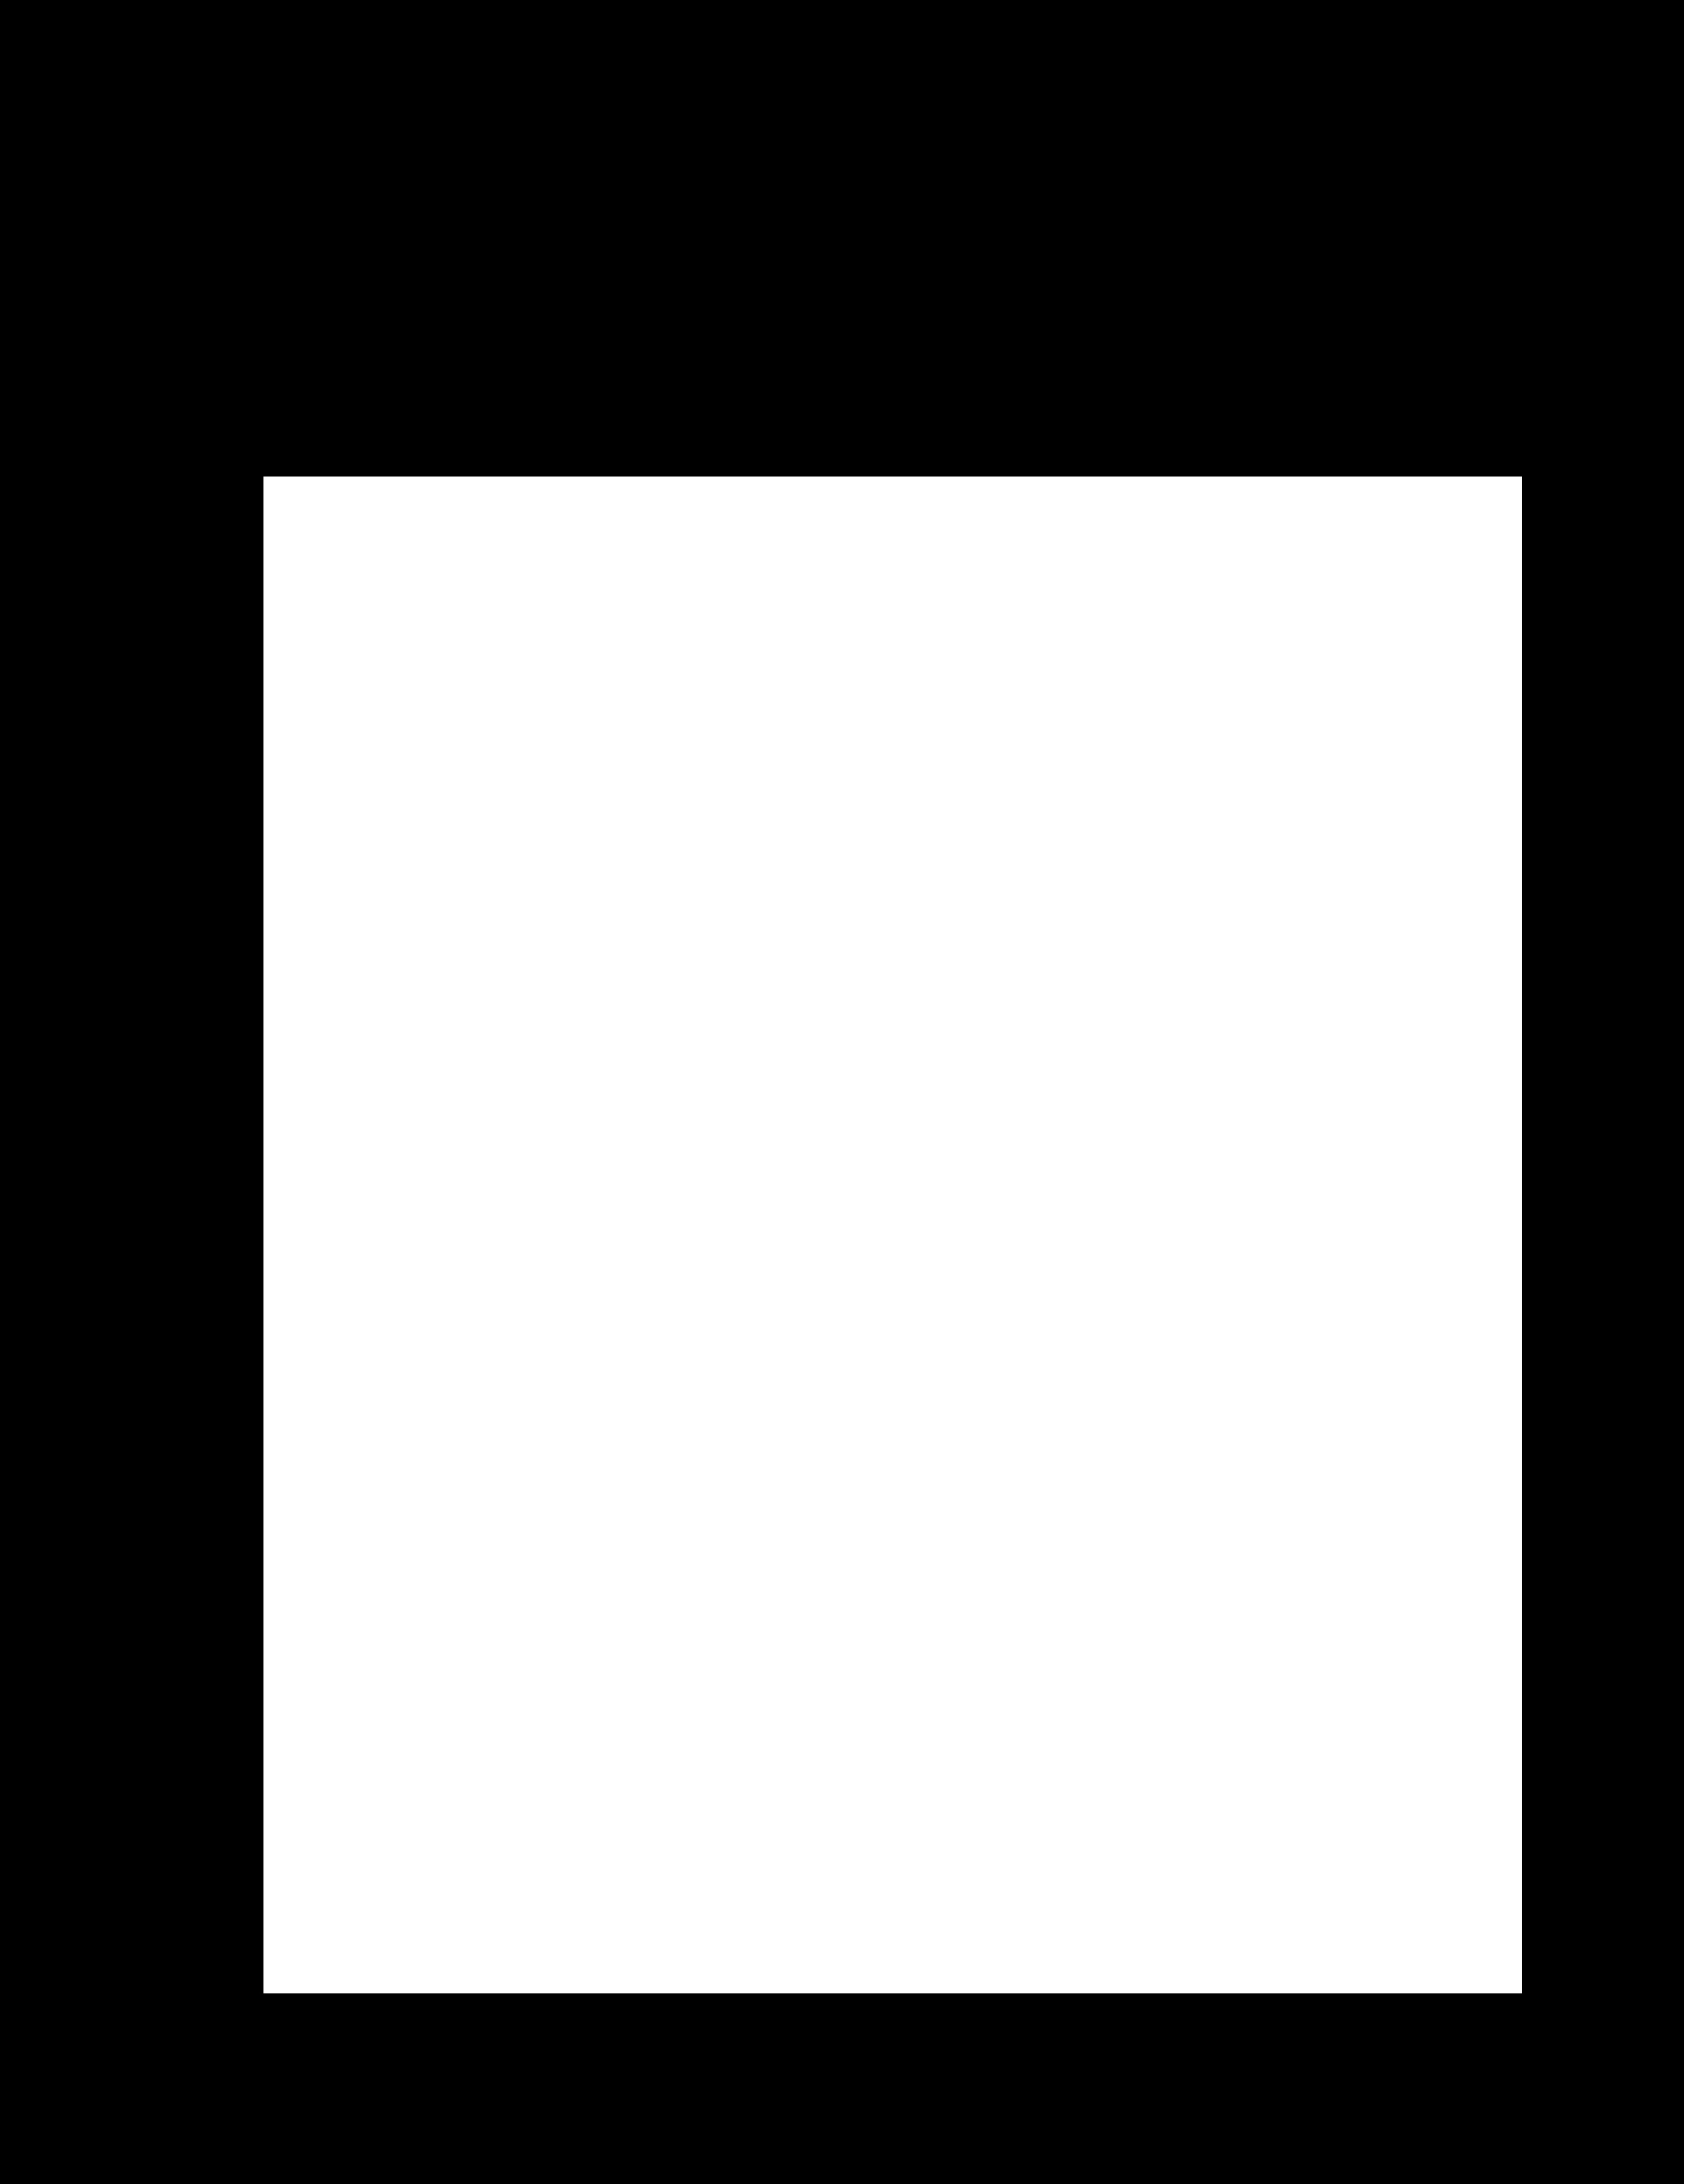table: (264, 476, 1521, 1993)
